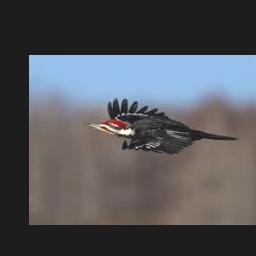Woodpecker: (83, 97, 238, 155)
